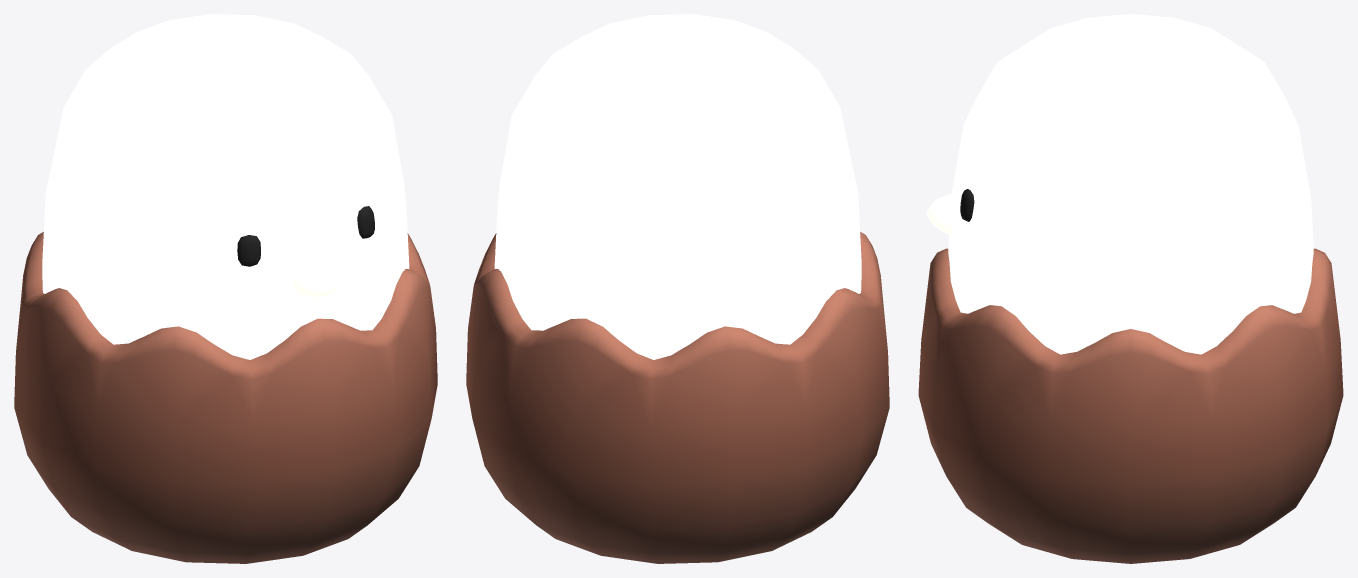
The model's file is lamp.glb.
3 renders of one model, left to right at view 1: azimuth 30°, elevation 25°; view 2: azimuth 150°, elevation 25°; view 3: azimuth 270°, elevation 25°, orthographic.
Visible parts, largest first — view 1: Night_Lamp_01; view 2: Night_Lamp_01; view 3: Night_Lamp_01.
Boxes of the visible parts, x1=… form: Night_Lamp_01: x1=14, y1=14, x2=437, y2=563; Night_Lamp_01: x1=466, y1=14, x2=889, y2=563; Night_Lamp_01: x1=918, y1=14, x2=1343, y2=563.
Size of the model in its own units: 0.1259 by 0.1528 by 0.1259.
Materials: 2 (2 with a texture image).
